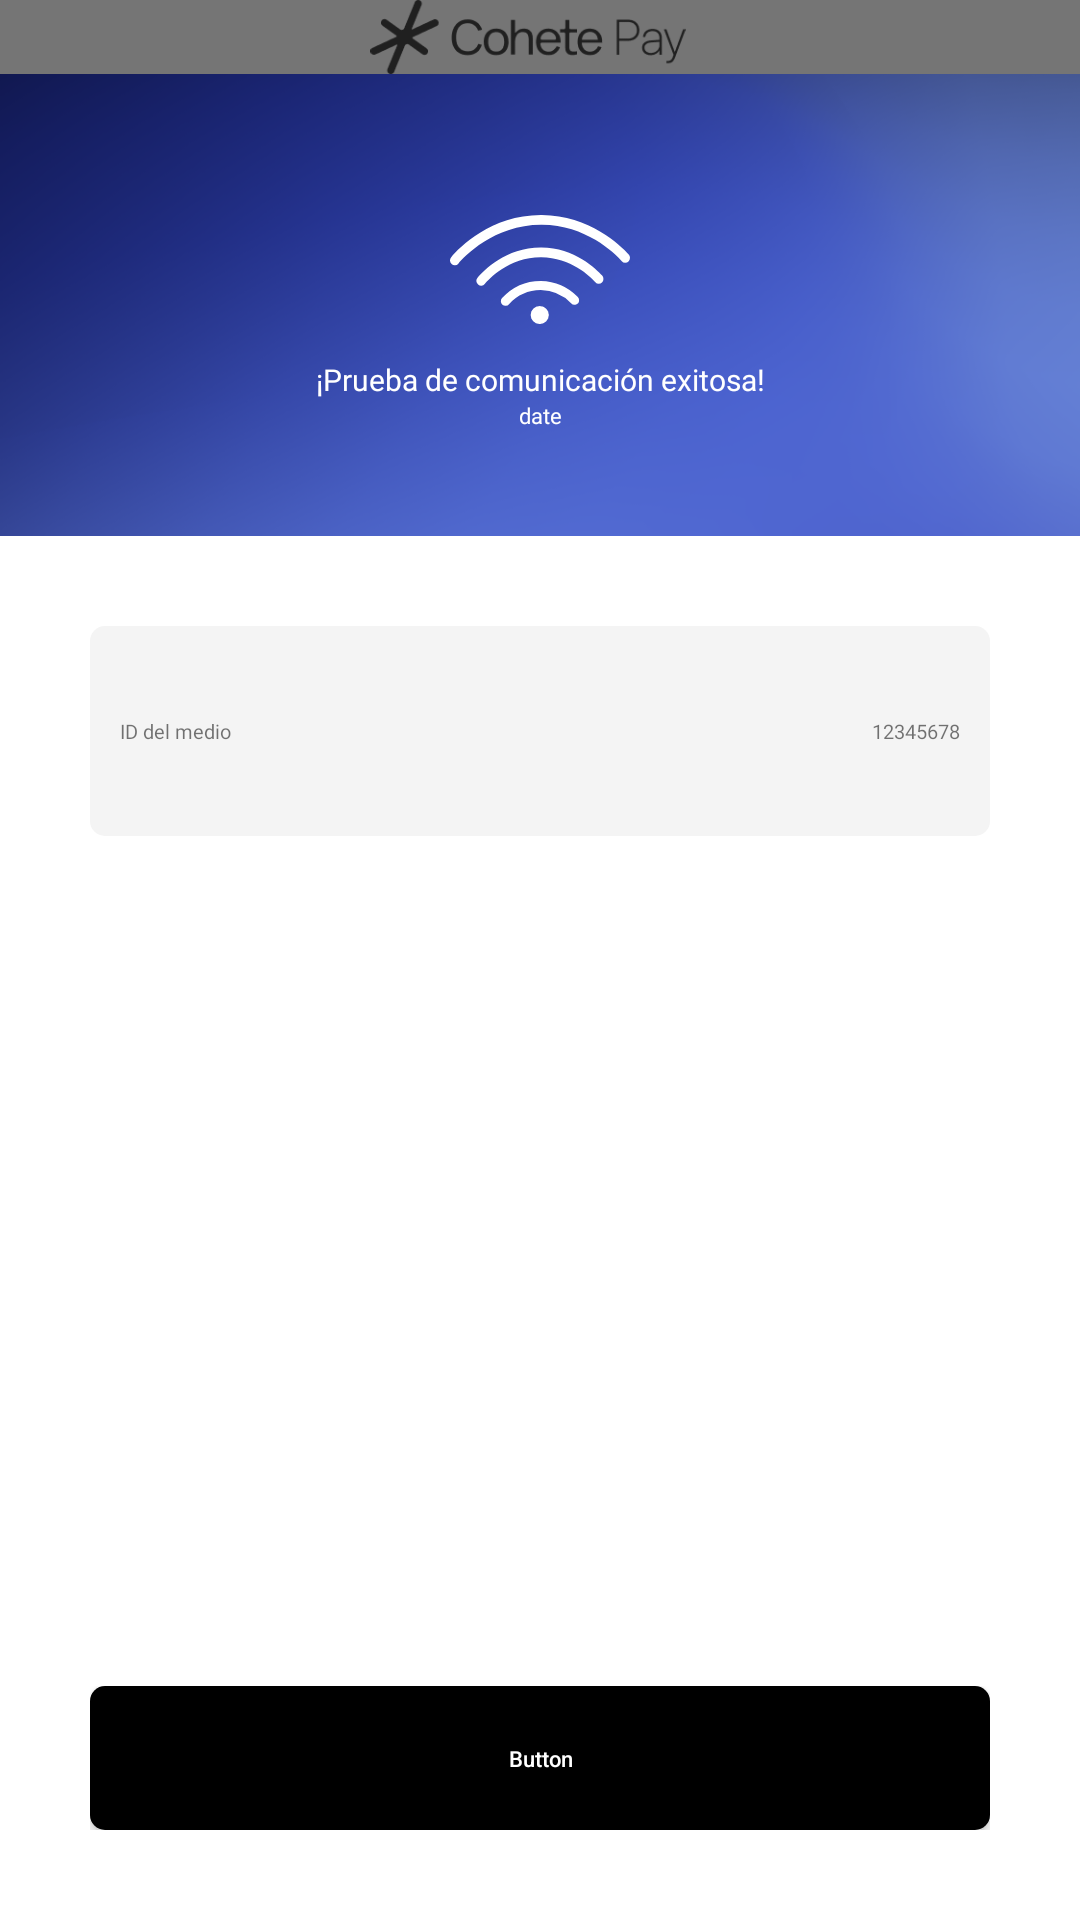

Named icons in this screenshot (1080 × 1920) and their centers, [x,y]:
connection: [540,269]
